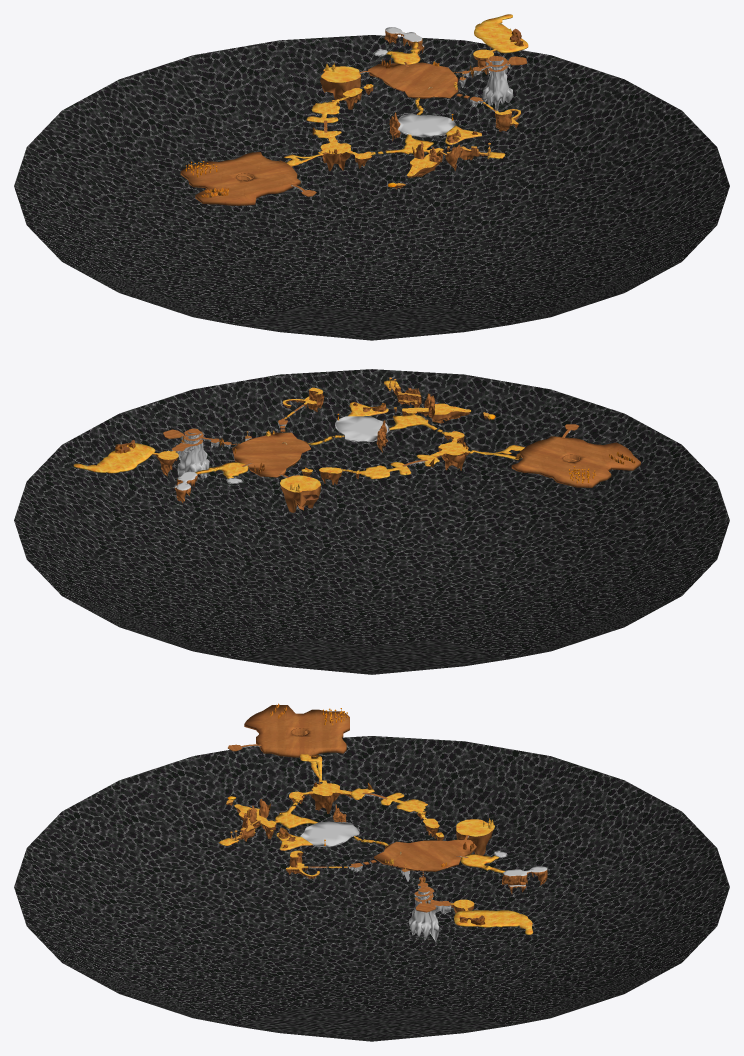
Rendered from deser-map.fbx.
3 views of the same model, one above another, from view 1: azimuth 30°, elevation 25°; view 2: azimuth 150°, elevation 25°; view 3: azimuth 270°, elevation 25° (orthographic).
Visible parts, largest first — view 1: Mesh_0062.rip_Mesh_0062.rip.003, Spiral.002, Mesh_0031.rip_Mesh_0031.rip.002, Mesh_0040.rip_Mesh_0040.rip.003, Mesh_0103.rip_Mesh_0103.rip.002, Mesh_0008.rip_Mesh_0008.rip.001, Mesh_0120.rip_Mesh_0120.rip.001, Mesh_0088.rip_Mesh_0088.rip.001, Mesh_0113.rip_Mesh_0113.rip.001, Mesh_0091.rip_Mesh_0091.rip.001, Mesh_0128.rip_Mesh_0128.rip.001; view 2: Mesh_0062.rip_Mesh_0062.rip.003, Spiral.002, Mesh_0031.rip_Mesh_0031.rip.002, Mesh_0040.rip_Mesh_0040.rip.003, Mesh_0103.rip_Mesh_0103.rip.002, Mesh_0120.rip_Mesh_0120.rip.001, Mesh_0008.rip_Mesh_0008.rip.001, Mesh_0088.rip_Mesh_0088.rip.001, Mesh_0113.rip_Mesh_0113.rip.001, Mesh_0091.rip_Mesh_0091.rip.001, Mesh_0128.rip_Mesh_0128.rip.001, Mesh_0121.rip_Mesh_0121.rip.001; view 3: Mesh_0062.rip_Mesh_0062.rip.003, Spiral.002, Mesh_0031.rip_Mesh_0031.rip.002, Mesh_0040.rip_Mesh_0040.rip.003, Mesh_0103.rip_Mesh_0103.rip.002, Mesh_0008.rip_Mesh_0008.rip.001, Mesh_0088.rip_Mesh_0088.rip.001, Mesh_0120.rip_Mesh_0120.rip.001, Mesh_0013.rip_Mesh_0013.rip.001, Mesh_0091.rip_Mesh_0091.rip.001, Mesh_0128.rip_Mesh_0128.rip.001.
Part boxes in pixels (x1,y1,x2,y2): Mesh_0062.rip_Mesh_0062.rip.003: [14, 35, 729, 340]; Spiral.002: [180, 152, 300, 205]; Mesh_0031.rip_Mesh_0031.rip.002: [368, 62, 458, 98]; Mesh_0040.rip_Mesh_0040.rip.003: [453, 55, 513, 110]; Mesh_0103.rip_Mesh_0103.rip.002: [474, 14, 528, 53]; Mesh_0008.rip_Mesh_0008.rip.001: [398, 113, 456, 137]; Mesh_0120.rip_Mesh_0120.rip.001: [320, 66, 360, 109]; Mesh_0088.rip_Mesh_0088.rip.001: [320, 136, 372, 170]; Mesh_0113.rip_Mesh_0113.rip.001: [394, 142, 440, 189]; Mesh_0091.rip_Mesh_0091.rip.001: [306, 101, 341, 138]; Mesh_0128.rip_Mesh_0128.rip.001: [423, 144, 490, 170]; Mesh_0062.rip_Mesh_0062.rip.003: [14, 369, 729, 674]; Spiral.002: [511, 436, 640, 487]; Mesh_0031.rip_Mesh_0031.rip.002: [232, 432, 310, 477]; Mesh_0040.rip_Mesh_0040.rip.003: [172, 428, 239, 479]; Mesh_0103.rip_Mesh_0103.rip.002: [73, 443, 155, 473]; Mesh_0120.rip_Mesh_0120.rip.001: [280, 475, 321, 512]; Mesh_0008.rip_Mesh_0008.rip.001: [335, 416, 389, 441]; Mesh_0088.rip_Mesh_0088.rip.001: [430, 431, 470, 470]; Mesh_0113.rip_Mesh_0113.rip.001: [424, 393, 489, 423]; Mesh_0091.rip_Mesh_0091.rip.001: [358, 454, 439, 479]; Mesh_0128.rip_Mesh_0128.rip.001: [391, 386, 428, 416]; Mesh_0121.rip_Mesh_0121.rip.001: [389, 413, 447, 434]; Mesh_0062.rip_Mesh_0062.rip.003: [14, 736, 729, 1041]; Spiral.002: [244, 705, 349, 757]; Mesh_0031.rip_Mesh_0031.rip.002: [374, 838, 476, 871]; Mesh_0040.rip_Mesh_0040.rip.003: [409, 870, 451, 942]; Mesh_0103.rip_Mesh_0103.rip.002: [454, 910, 533, 934]; Mesh_0008.rip_Mesh_0008.rip.001: [300, 821, 359, 847]; Mesh_0088.rip_Mesh_0088.rip.001: [289, 781, 352, 813]; Mesh_0120.rip_Mesh_0120.rip.001: [456, 819, 494, 855]; Mesh_0013.rip_Mesh_0013.rip.001: [502, 866, 547, 893]; Mesh_0091.rip_Mesh_0091.rip.001: [351, 788, 427, 812]; Mesh_0128.rip_Mesh_0128.rip.001: [232, 814, 276, 841].
Bounding box in the file's own units: 61422 × 15979 × 61422.
